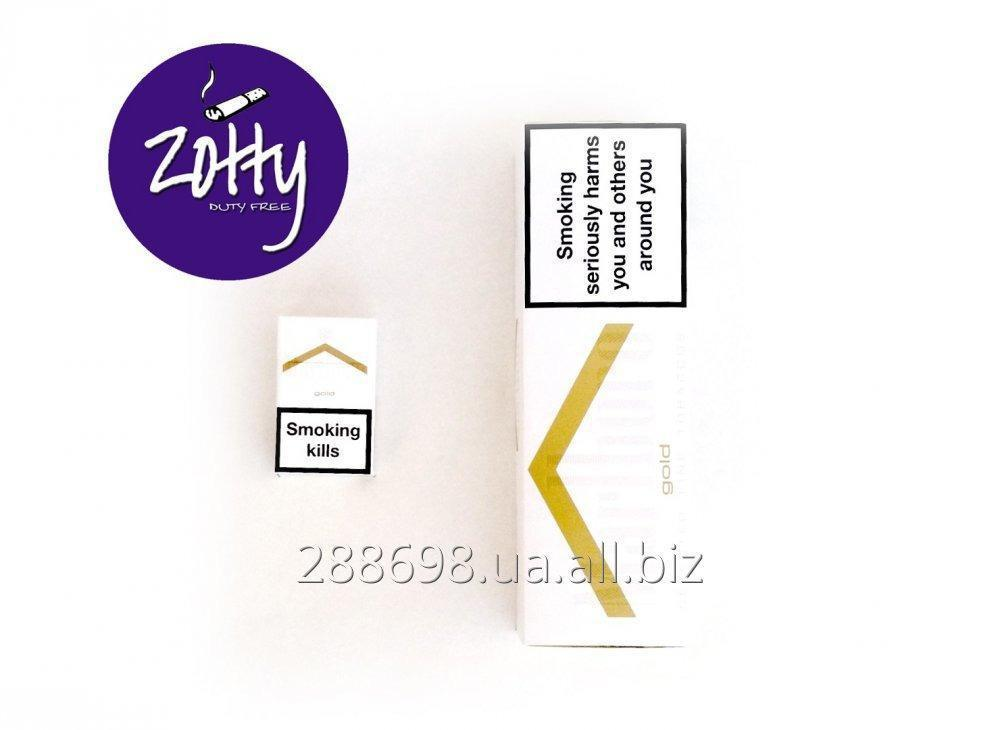marlboro_gold: (275, 317, 370, 475)
